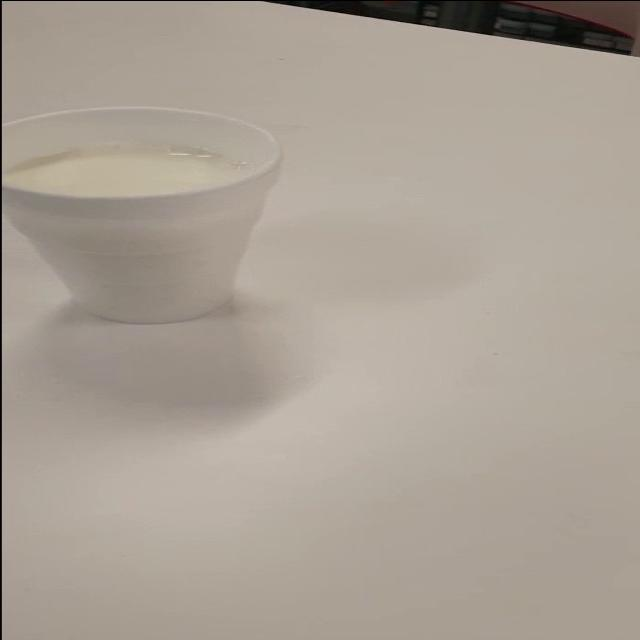Milk: (0, 80, 325, 339)
